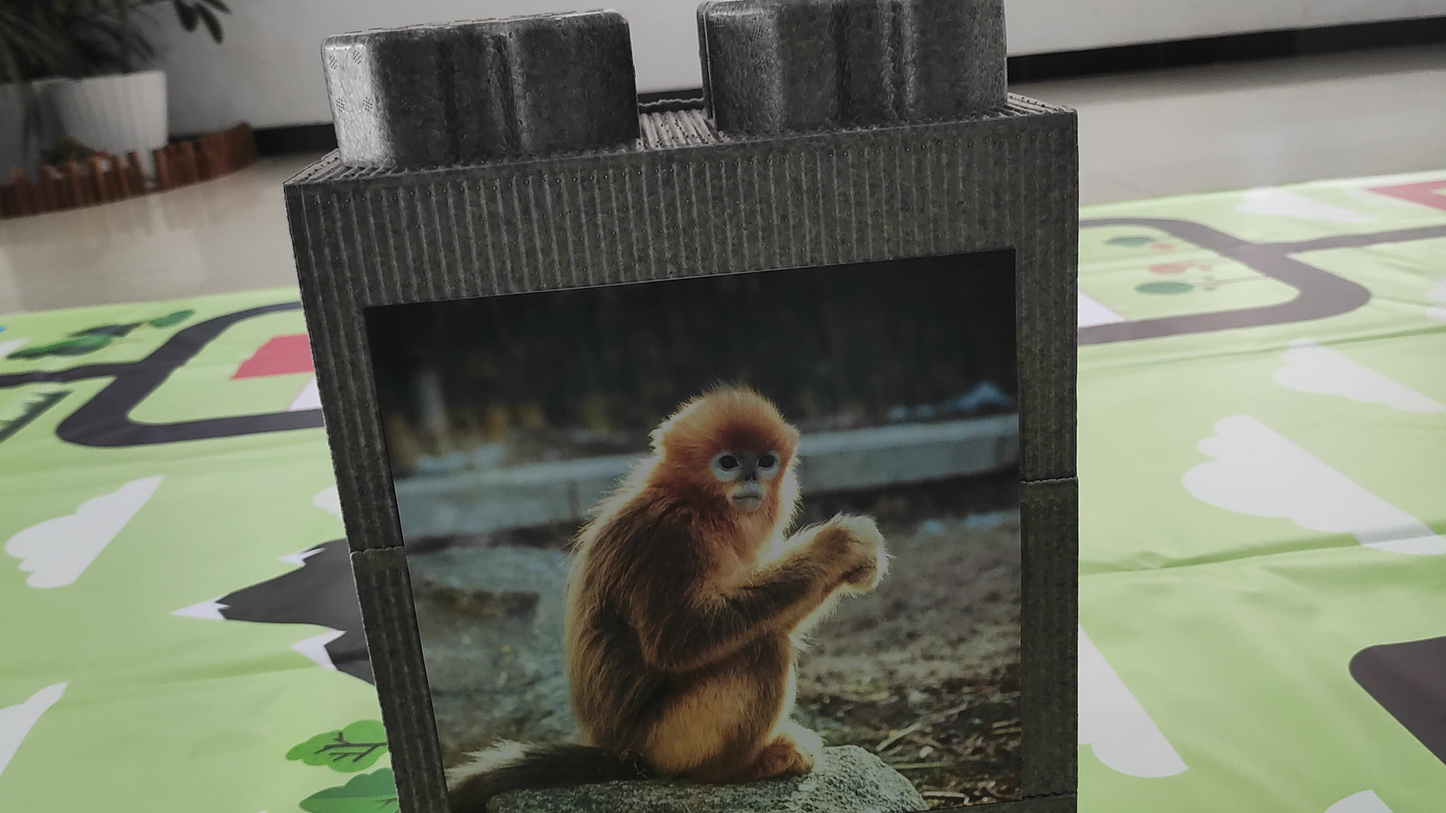monkey: (442, 352, 920, 806)
